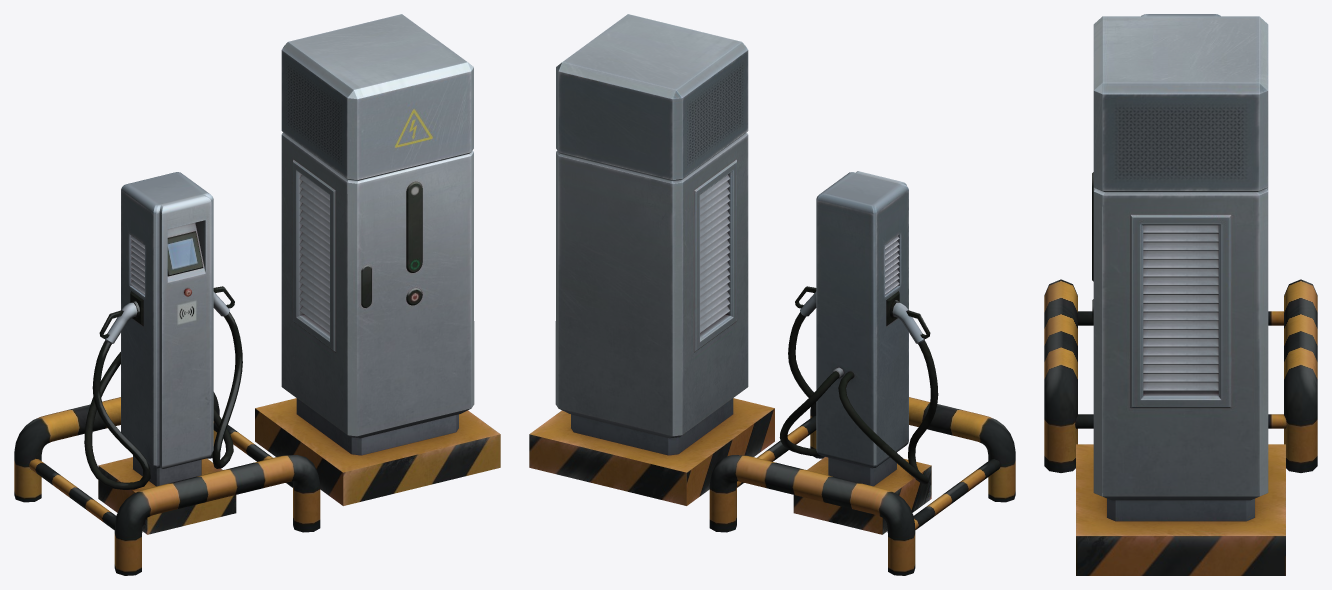
File: hellowkiti.glb
3 renders of one model, left to right at view 1: azimuth 30°, elevation 25°; view 2: azimuth 150°, elevation 25°; view 3: azimuth 270°, elevation 25°, orthographic. The views are drawn at different scales.
Visible parts, largest first — view 1: pCylinder29, pCylinder28; view 2: pCylinder29, pCylinder28; view 3: pCylinder29, pCylinder28.
Part boxes in pixels (left/top/right/bottom): pCylinder29: left=255, top=14, right=500, bottom=505; pCylinder28: left=14, top=172, right=320, bottom=575; pCylinder29: left=529, top=14, right=774, bottom=505; pCylinder28: left=709, top=171, right=1015, bottom=575; pCylinder29: left=1076, top=16, right=1285, bottom=575; pCylinder28: left=1044, top=14, right=1317, bottom=472.
Bounding box in the file's own units: 3.19 × 3.19 × 1.62.
Materials: 1 (1 with a texture image).
